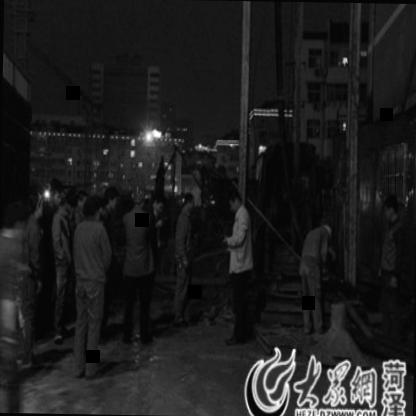head: (3, 196, 30, 240), (380, 190, 402, 224), (225, 186, 245, 215), (80, 192, 100, 221), (28, 185, 44, 221), (102, 184, 120, 214), (48, 179, 63, 212), (63, 188, 78, 218), (180, 188, 195, 216), (152, 190, 167, 218)
helmet: (129, 178, 149, 209)
